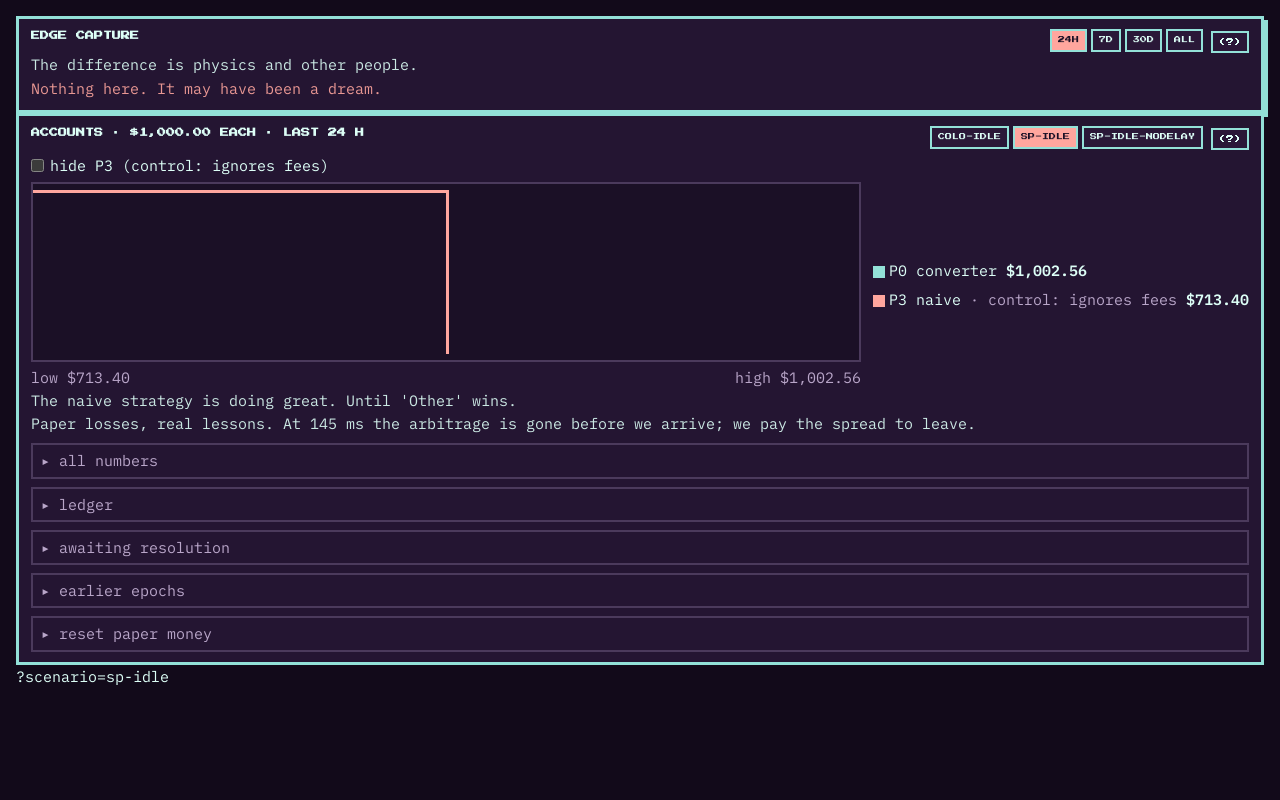
Paper › renders sp-idle-nodelay after another scenario, with fewer accounts there and no marks yet
The image size is (1280, 800).
Expected: the text "P3 naive" is shown, [889, 290, 961, 309]
Click the button "SP-IDLE-NODELAY" at [1142, 137], box [1082, 126, 1203, 149]
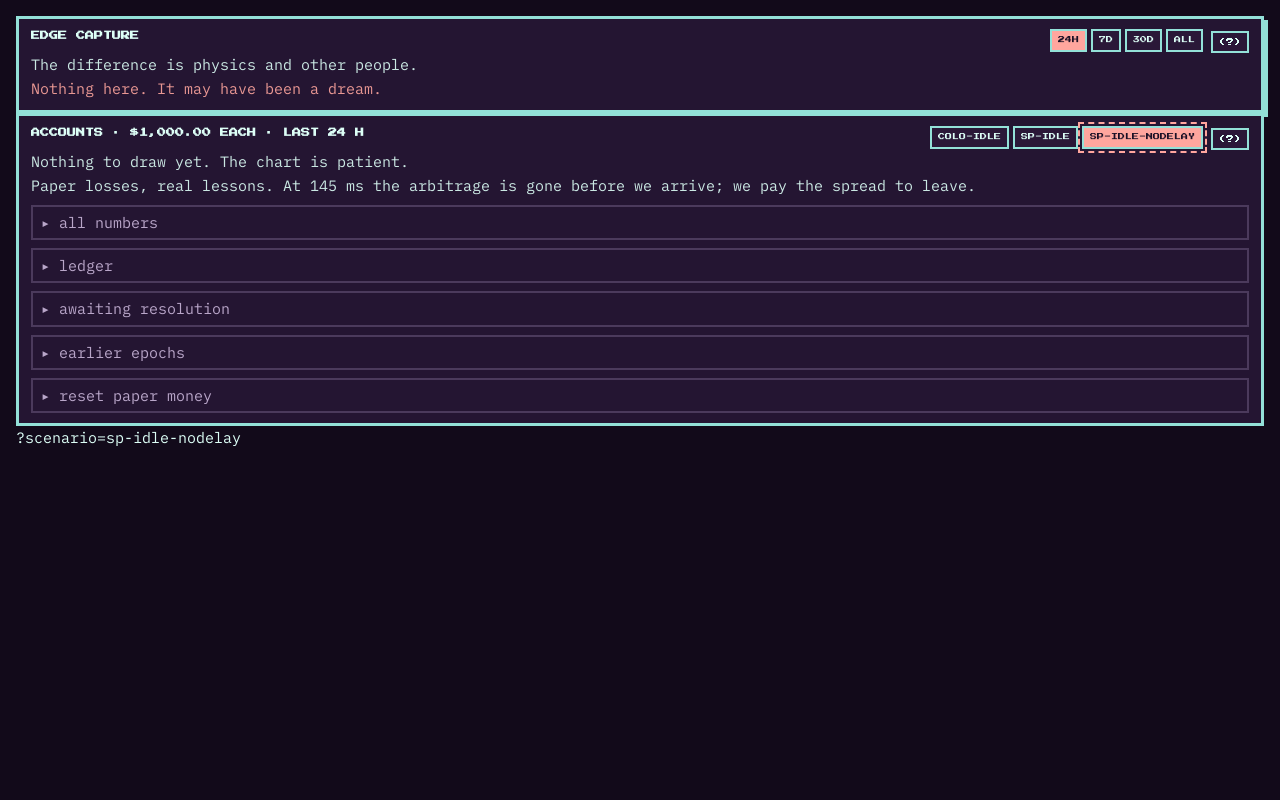
Expected: the text "Nothing to draw yet. The chart is patient." is shown, [31, 152, 409, 171]
Expected: the text "P3 naive" is gone
Expected: the text "The naive strategy is doing great. Until 'Other' wins." is gone
